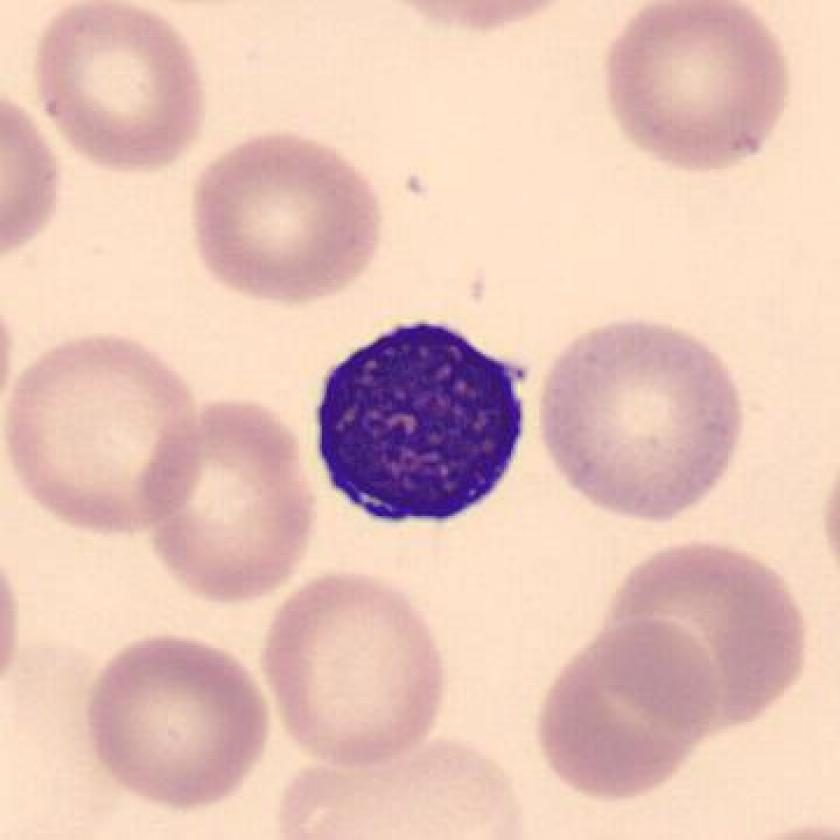lymphocyte: (302, 302, 540, 547)
